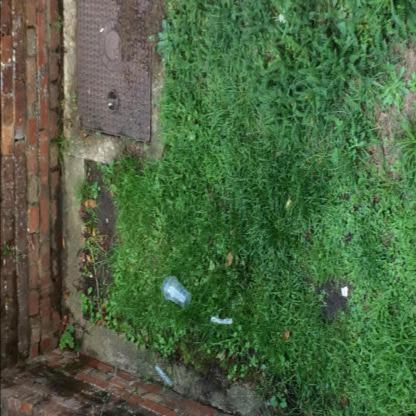Cigarette: (100, 26, 104, 32)
Cup: (164, 276, 190, 308)
Lid: (161, 276, 173, 298)
Other plastic: (211, 317, 233, 324)
Unlabeled litter: (154, 365, 172, 385)
